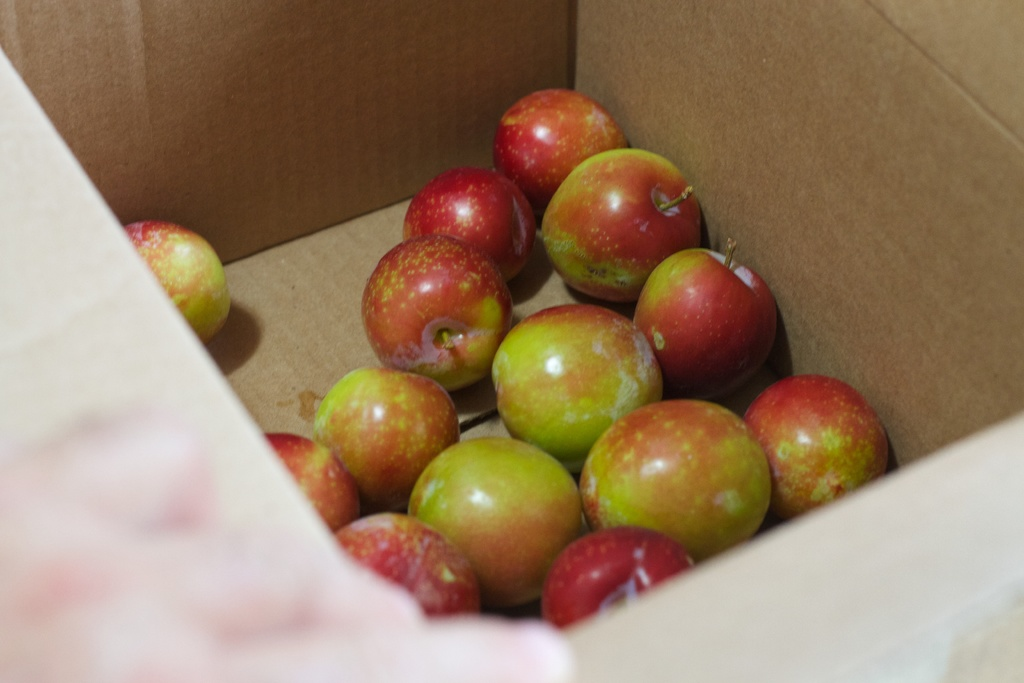Apple: (311, 362, 466, 495)
